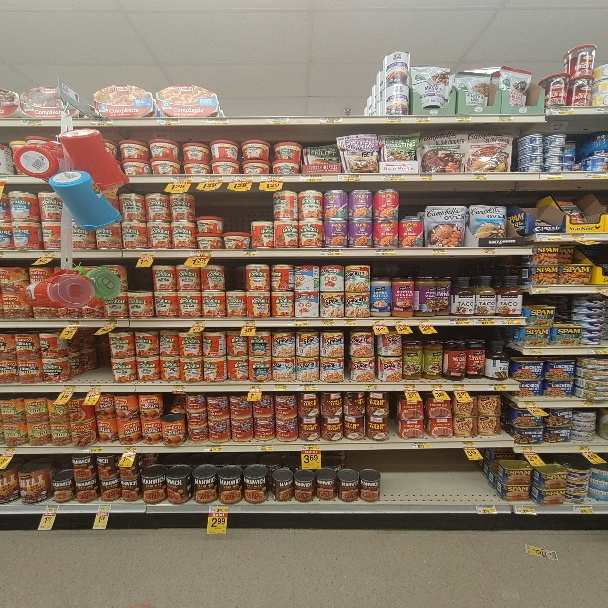All PRICE TAGS: (18, 118, 43, 126), (548, 107, 574, 114), (515, 505, 535, 514), (572, 505, 593, 513), (319, 117, 343, 124), (585, 172, 608, 179), (266, 117, 289, 124), (477, 505, 497, 513), (475, 318, 497, 325), (501, 318, 523, 325), (209, 505, 228, 513), (584, 172, 605, 179), (451, 318, 472, 325), (540, 173, 563, 179), (299, 175, 322, 181), (544, 234, 563, 241), (91, 119, 113, 125), (190, 250, 212, 256), (383, 174, 405, 180), (262, 175, 284, 181), (232, 175, 254, 181), (171, 175, 193, 181), (322, 249, 340, 256), (587, 348, 608, 354), (338, 174, 359, 180), (207, 118, 228, 124), (104, 319, 119, 327), (66, 319, 81, 327), (204, 175, 224, 181), (157, 119, 181, 124), (487, 383, 504, 390), (84, 447, 103, 453), (411, 442, 430, 448), (203, 445, 222, 451), (482, 247, 498, 254), (536, 286, 550, 294), (387, 116, 403, 123), (471, 173, 489, 179), (298, 385, 316, 391), (570, 234, 585, 241), (364, 384, 379, 391), (529, 348, 544, 355), (377, 249, 394, 255), (497, 115, 514, 121), (430, 248, 444, 255), (62, 385, 76, 392), (520, 446, 534, 453), (320, 319, 336, 325), (342, 319, 358, 325), (392, 319, 408, 325), (430, 384, 446, 390), (46, 505, 58, 513), (99, 504, 111, 512), (596, 285, 608, 293), (456, 116, 472, 122), (41, 252, 56, 258), (290, 320, 308, 325), (420, 174, 435, 180), (416, 117, 431, 123), (141, 251, 155, 257), (243, 250, 257, 256), (242, 320, 256, 326), (371, 319, 385, 325), (416, 318, 430, 324), (250, 385, 264, 391), (273, 385, 287, 391), (123, 446, 137, 452), (581, 401, 595, 407), (451, 384, 465, 390), (256, 445, 272, 450), (193, 320, 206, 326), (404, 384, 417, 390), (89, 385, 102, 391), (578, 446, 591, 452), (304, 444, 319, 449), (174, 385, 186, 391), (524, 401, 536, 407), (4, 447, 15, 453), (463, 442, 475, 446)
